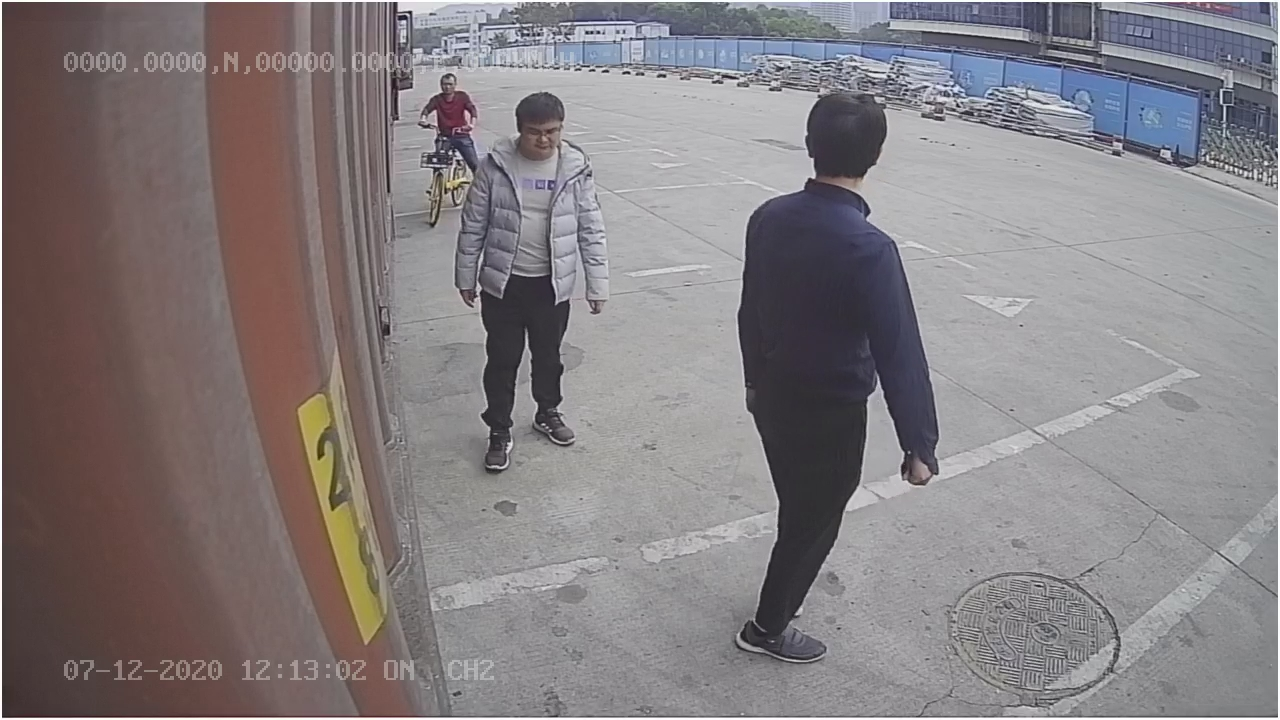person: (723, 79, 936, 661)
